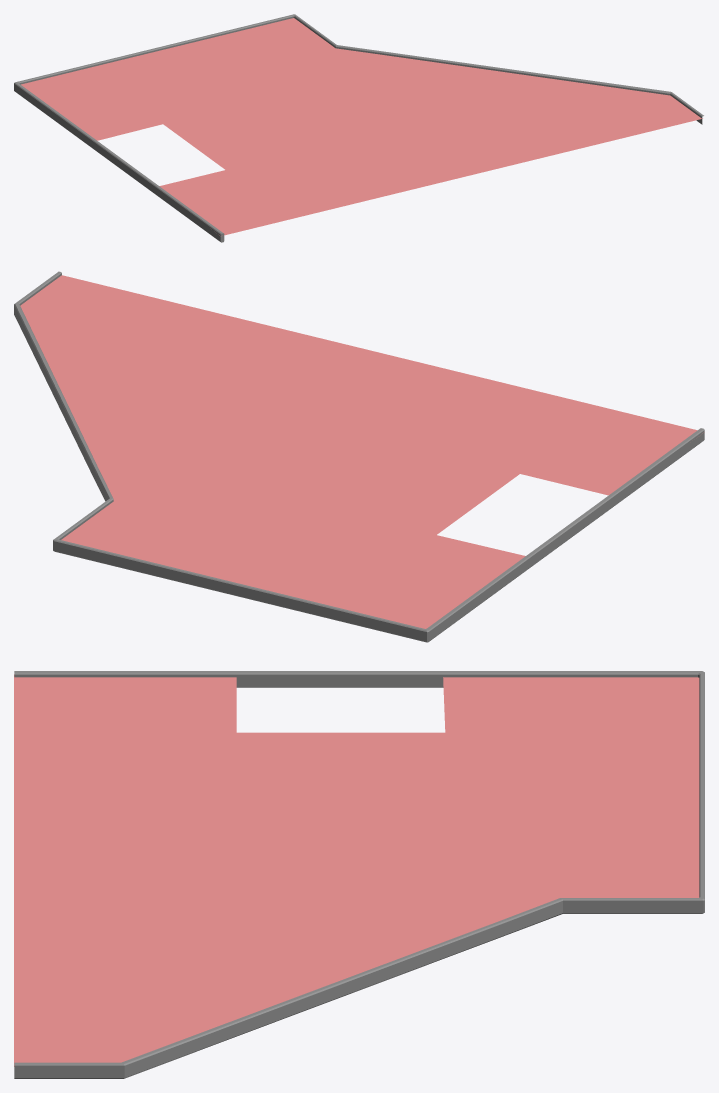
The model's file is S_Envi_Umeda_Building_005C.gltf.
3 views of the same model, one above another, from view 1: azimuth 30°, elevation 25°; view 2: azimuth 150°, elevation 25°; view 3: azimuth 270°, elevation 25° (orthographic). The views are drawn at different scales.
Visible parts, largest first — view 1: S_Envi_Umeda_Building_005C; view 2: S_Envi_Umeda_Building_005C; view 3: S_Envi_Umeda_Building_005C.
Boxes of the visible parts, bbox=[...] form: S_Envi_Umeda_Building_005C: bbox=[14, 14, 703, 242]; S_Envi_Umeda_Building_005C: bbox=[14, 271, 704, 642]; S_Envi_Umeda_Building_005C: bbox=[14, 671, 704, 1078].
Bounding box in the file's own units: 19.31 × 0.3373 × 14.31.
